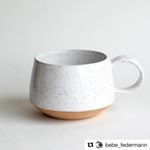cups: (27, 47, 146, 121)
